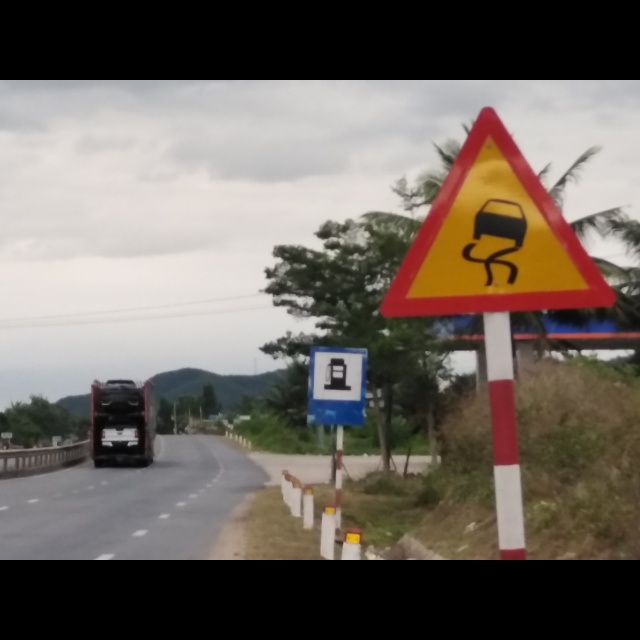Đường trơn trượt: (372, 107, 620, 322)
